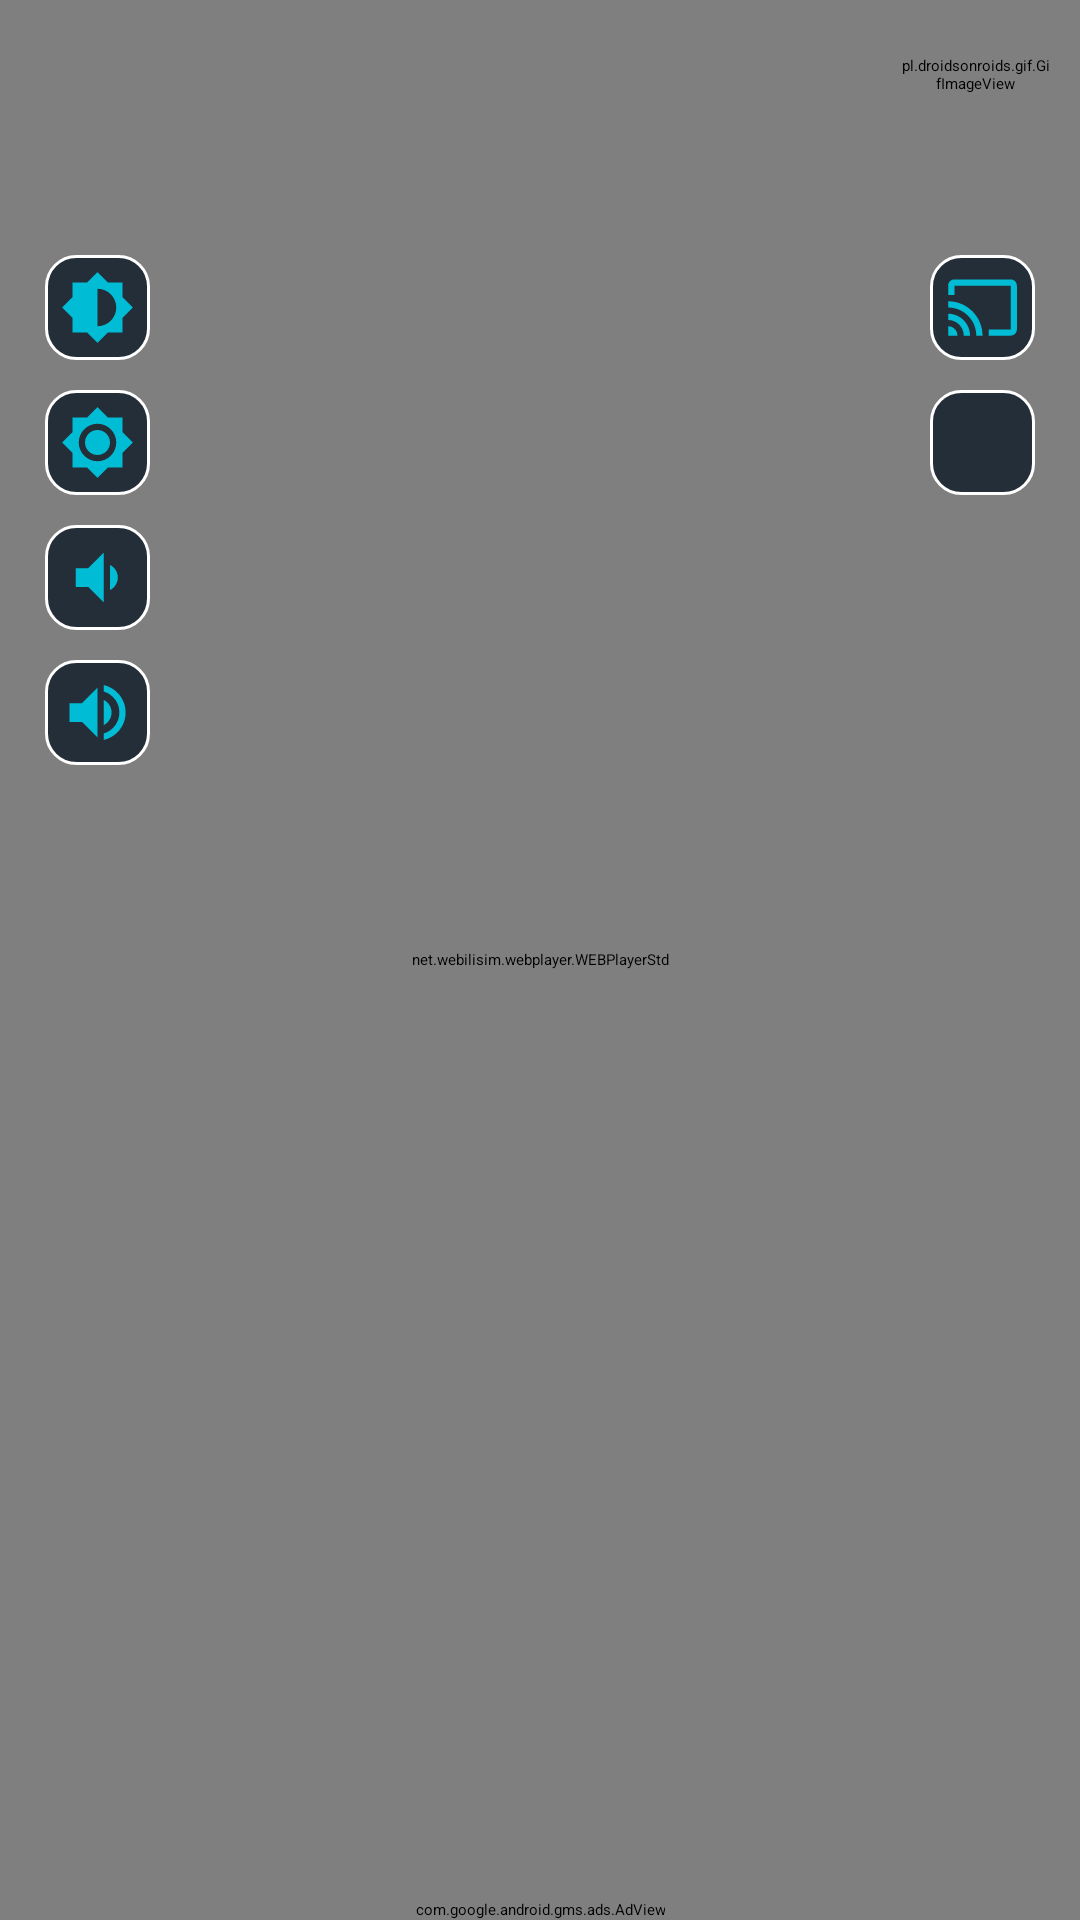

Icon bounding boxes for this 1080px×1920px phone screenshot, format {"left": x1, "top": y1, "right": x2, "bottom": y2}:
brightness: {"left": 45, "top": 255, "right": 150, "bottom": 360}, {"left": 45, "top": 390, "right": 150, "bottom": 495}
cast: {"left": 930, "top": 255, "right": 1035, "bottom": 360}
volume down: {"left": 45, "top": 525, "right": 150, "bottom": 630}
volume up: {"left": 45, "top": 660, "right": 150, "bottom": 765}
